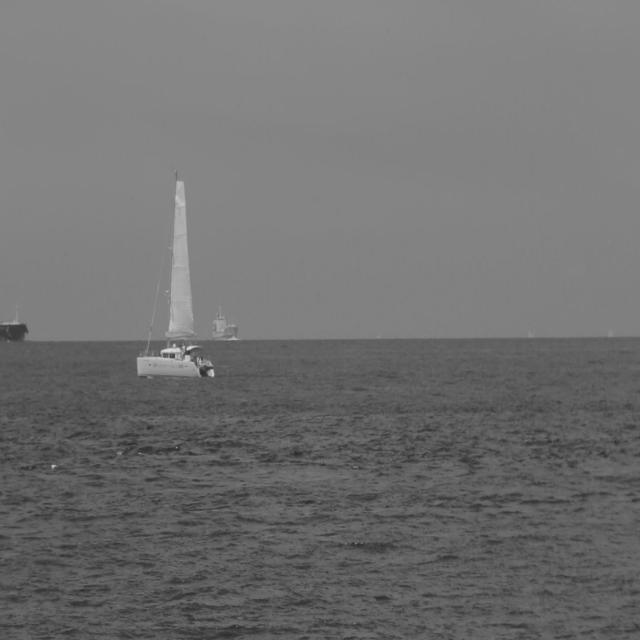boat: (140, 179, 219, 380)
ship: (1, 314, 24, 342), (212, 312, 235, 338)
